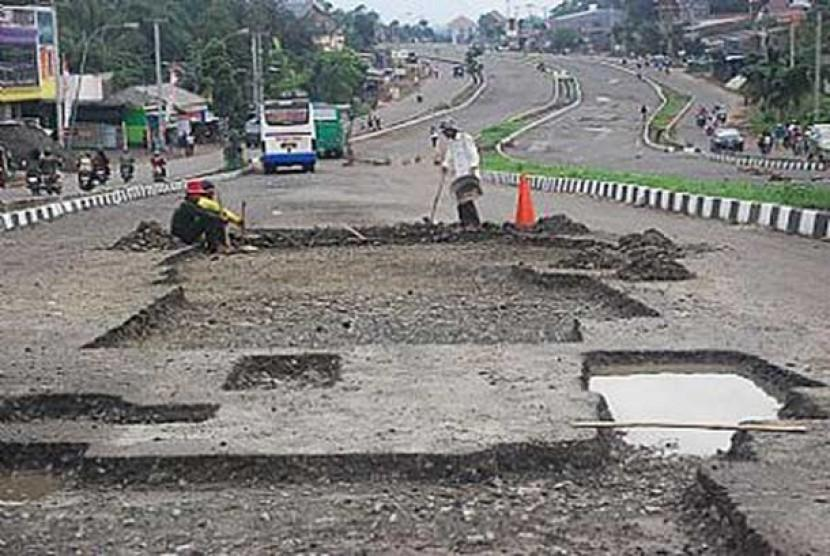Pothole: (0, 338, 827, 556), (71, 181, 744, 355), (212, 344, 365, 404)
